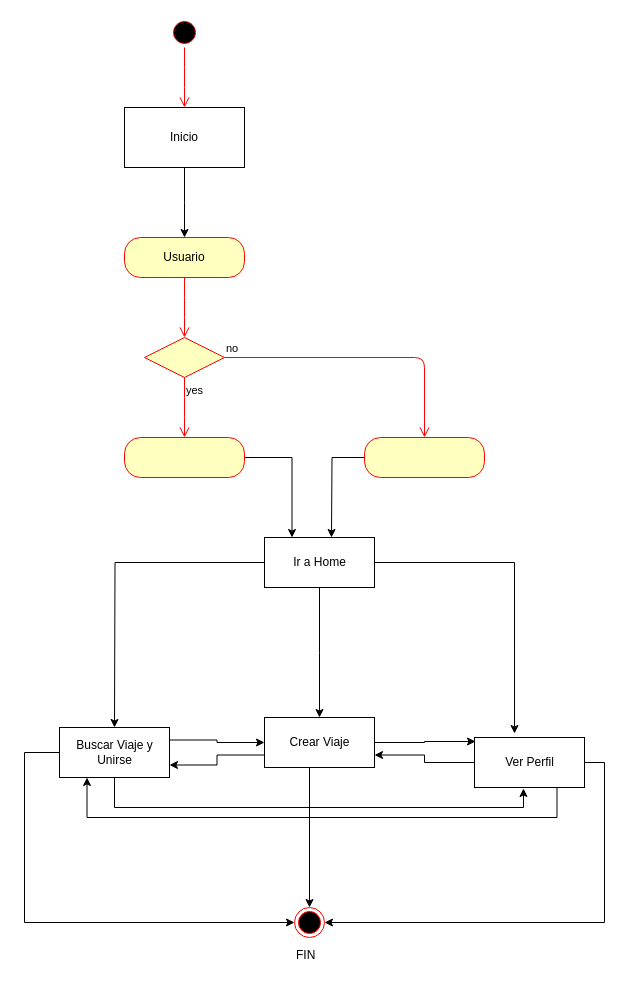
The diagram is 630 pixels wide and 983 high, and some of its shapes have lost their labels. The shapes that lost their labels are listed below. From the top down, each one's centre as x and y in pixels, then its label:
At pixel 184 357: "¿Existe?".
At pixel 184 457: "Hacer login".
At pixel 424 457: "Registrar usuario".
